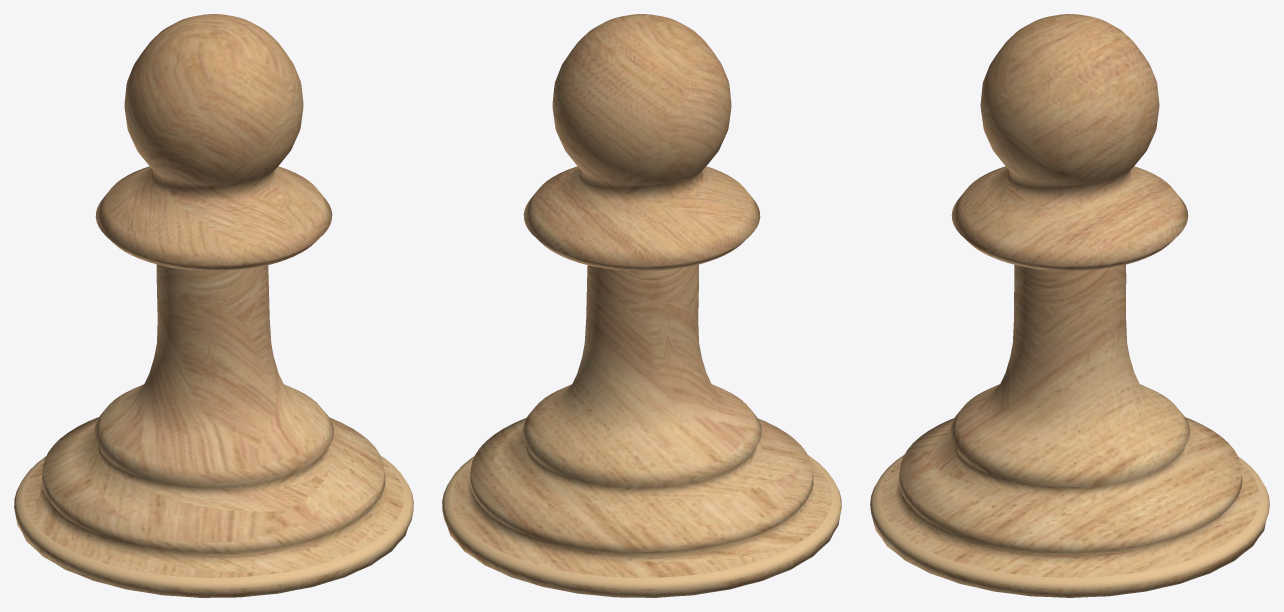
Rendered from pawn_white.glb.
3 renders of one model, left to right at view 1: azimuth 30°, elevation 25°; view 2: azimuth 150°, elevation 25°; view 3: azimuth 270°, elevation 25°, orthographic.
Parts seen in each view (by area): view 1: Cylinder; view 2: Cylinder; view 3: Cylinder.
Part boxes in pixels (x1=…): Cylinder: x1=14, y1=14, x2=413, y2=597; Cylinder: x1=442, y1=14, x2=841, y2=597; Cylinder: x1=870, y1=14, x2=1269, y2=597.
Bounding box in the file's own units: 0.498 × 0.6946 × 0.498.
Materials: 1 (1 with a texture image).
